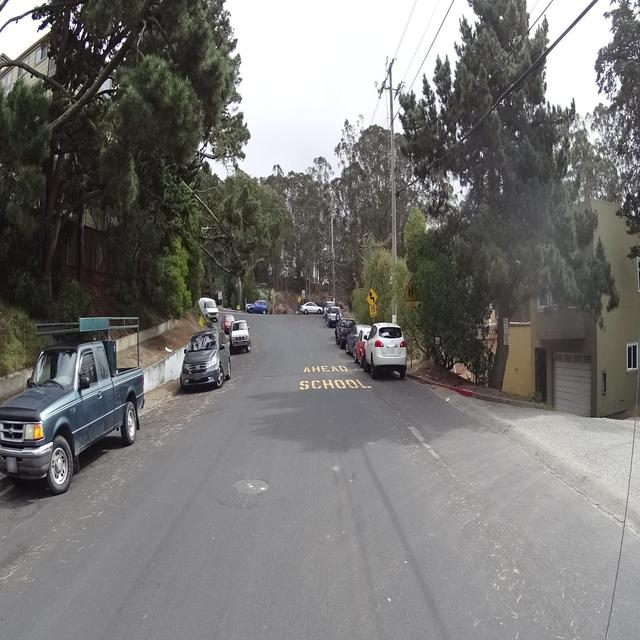Car: (0, 316, 143, 494), (299, 301, 406, 379), (180, 297, 267, 391)
Manhole: (234, 478, 268, 494)
Vegetation: (628, 242, 639, 260), (274, 289, 280, 311)
